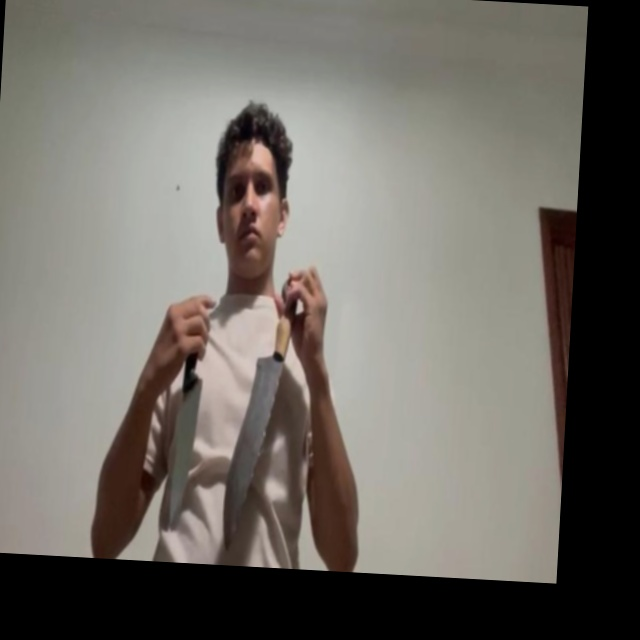Sharp-Object: (221, 351, 284, 548), (169, 380, 203, 527)
